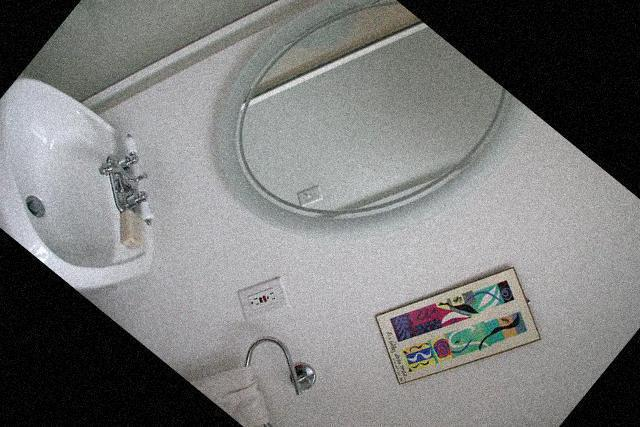Ducha: (13, 0, 394, 236)
Lavamanos: (0, 28, 218, 307)
